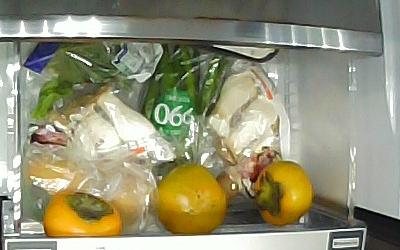persimmon: (151, 162, 228, 235), (253, 160, 315, 227), (44, 193, 124, 238)
persimmon_vinyl: (98, 167, 147, 227), (28, 154, 86, 201)
